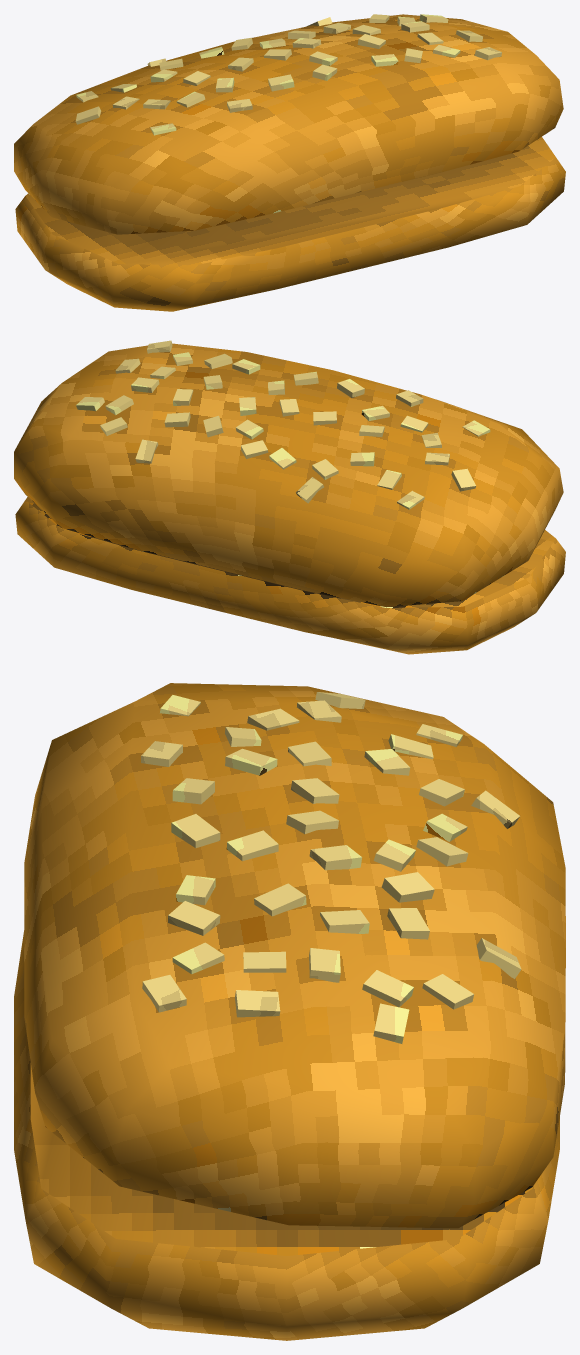
The model's file is Bread.fbx.
3 views of the same model, one above another, from view 1: azimuth 30°, elevation 25°; view 2: azimuth 150°, elevation 25°; view 3: azimuth 270°, elevation 25° (orthographic). The views are drawn at different scales.
Visible parts, largest first — view 1: Bread; view 2: Bread; view 3: Bread.
Part boxes in pixels (x1,y1,x2,y2): Bread: (14, 14, 565, 311); Bread: (14, 340, 565, 654); Bread: (14, 683, 565, 1340).
Bounding box in the file's own units: 0.3751 × 0.1398 × 0.1986.
1 material, 1 textured.
